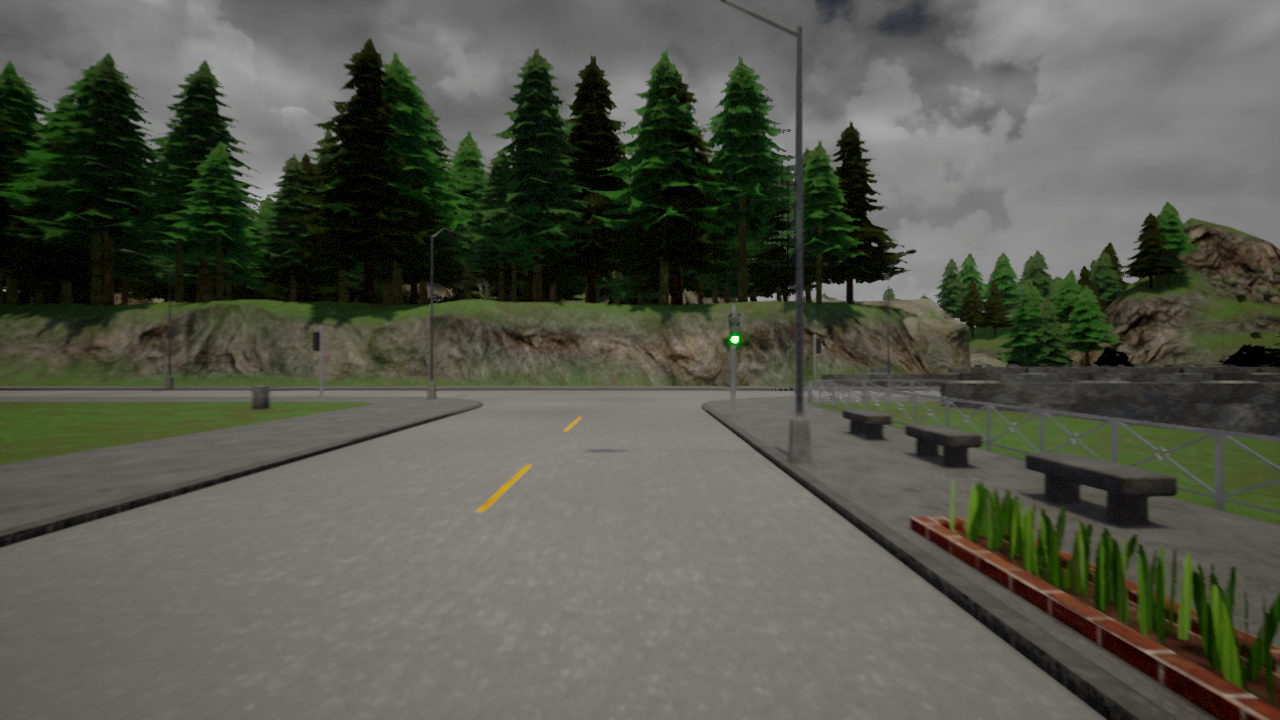green: (728, 312, 741, 346)
